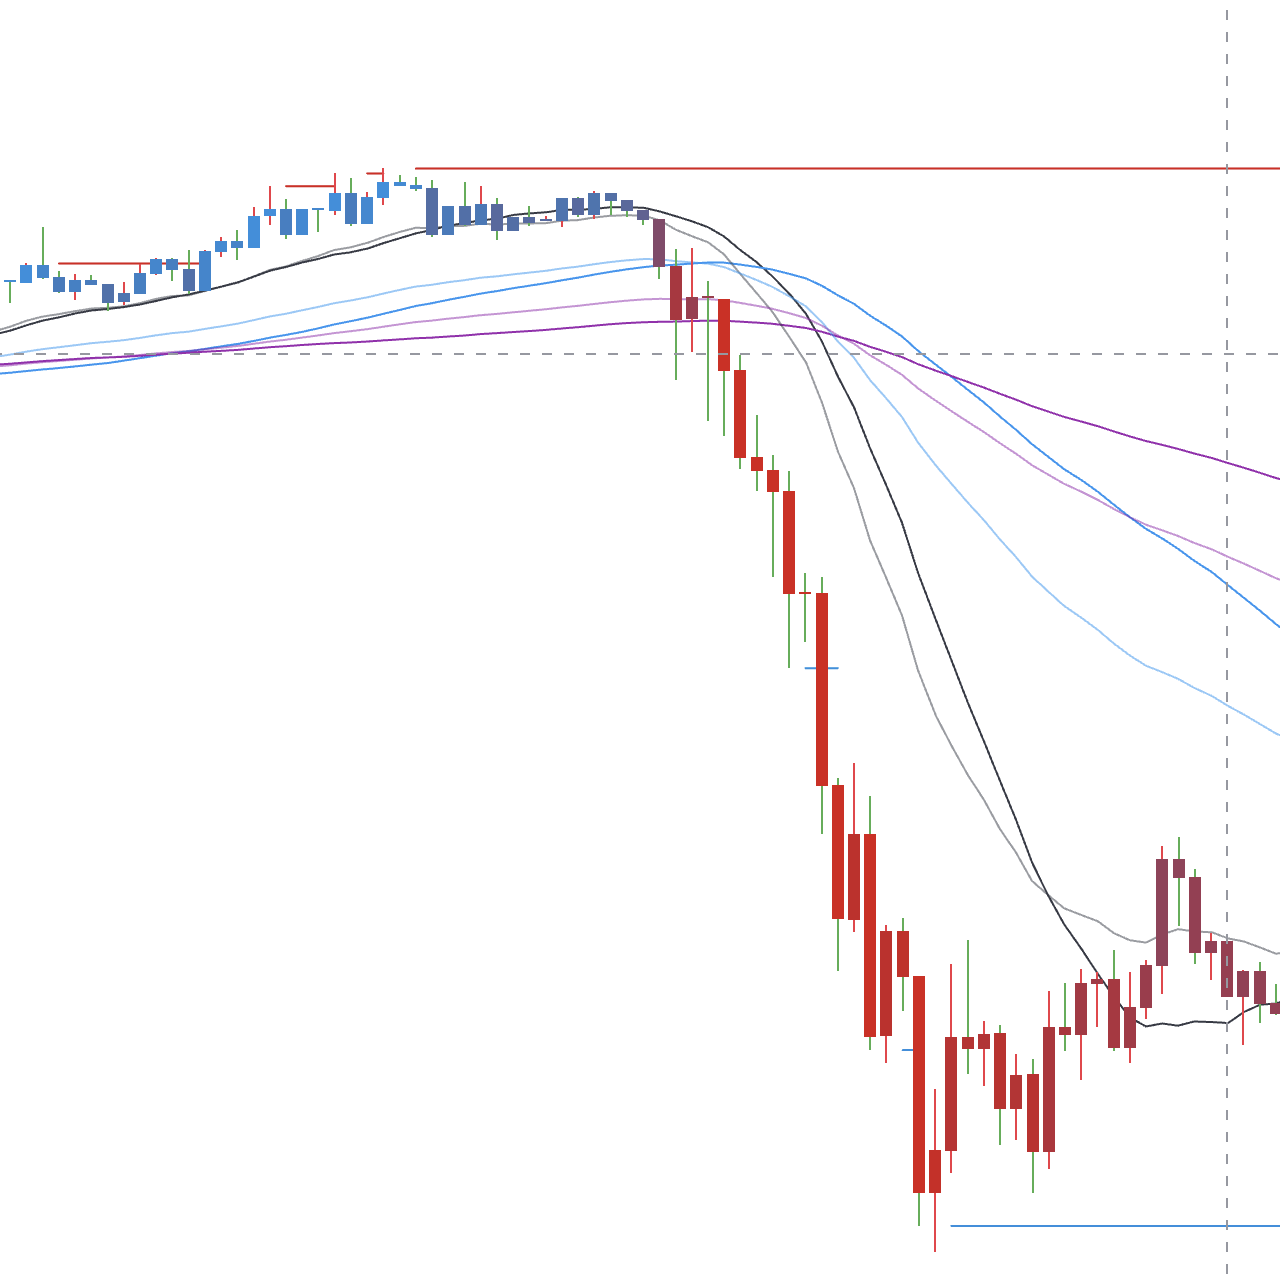ma_cluster: (583, 203, 779, 375)
